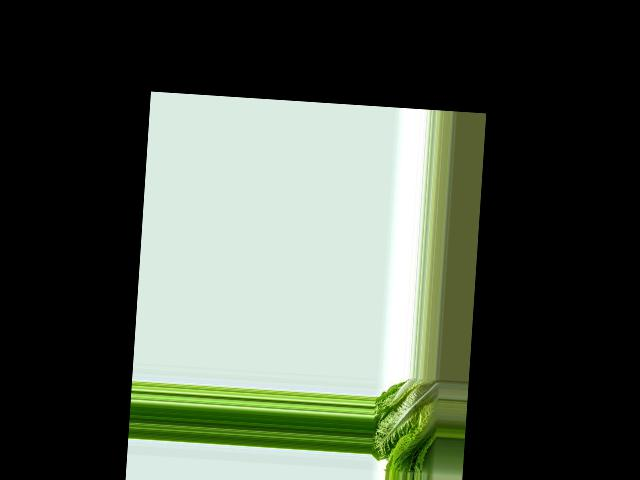lettuce: (371, 376, 439, 475)
